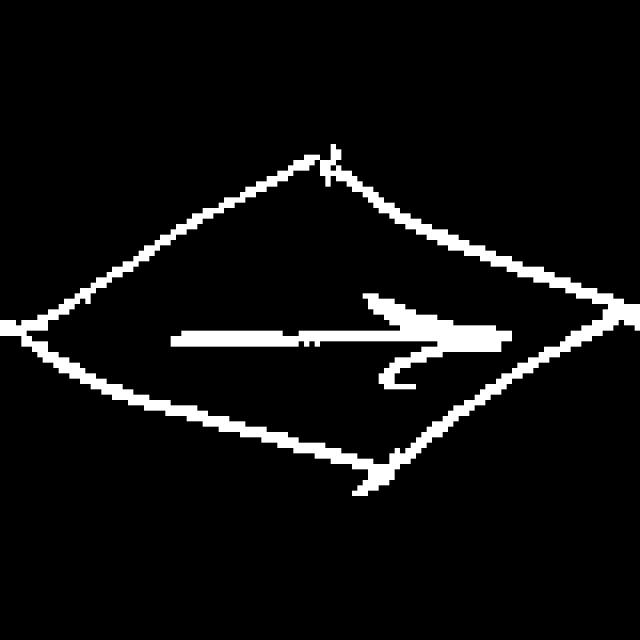dependant_current: (16, 133, 623, 513)
